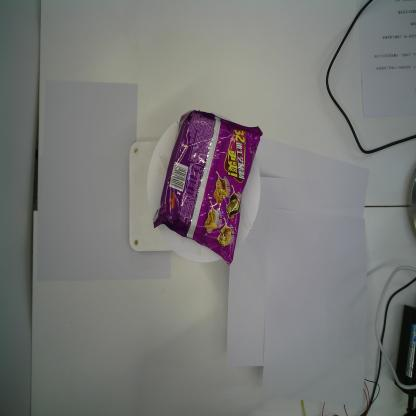Instant Noodles: (152, 108, 264, 266)
